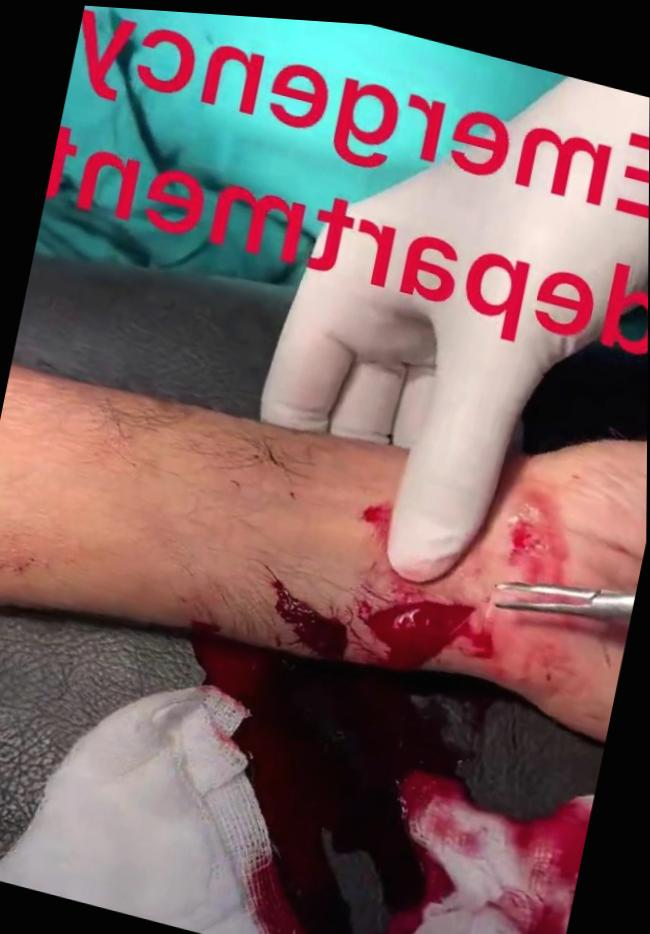Fire: (194, 498, 570, 934), (516, 787, 595, 934)
